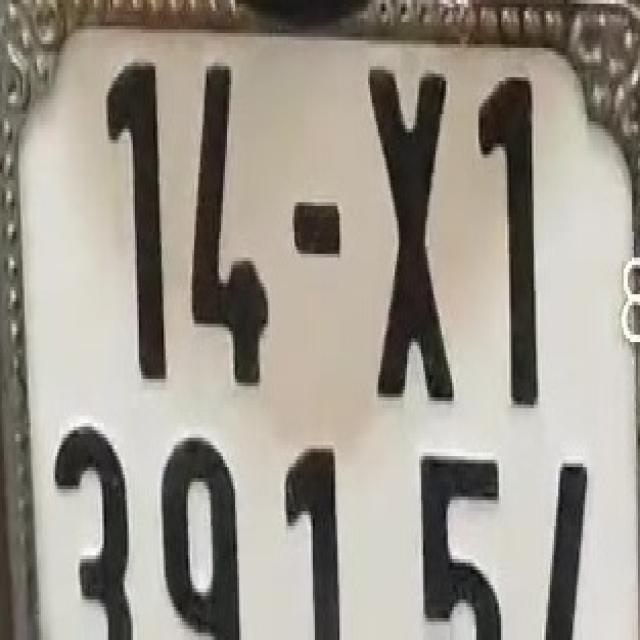1: (472, 64, 556, 410), (96, 48, 176, 386), (278, 434, 360, 640)
3: (47, 415, 139, 640)
4: (183, 51, 277, 394)
9: (156, 423, 252, 640)
X: (366, 59, 458, 404)
